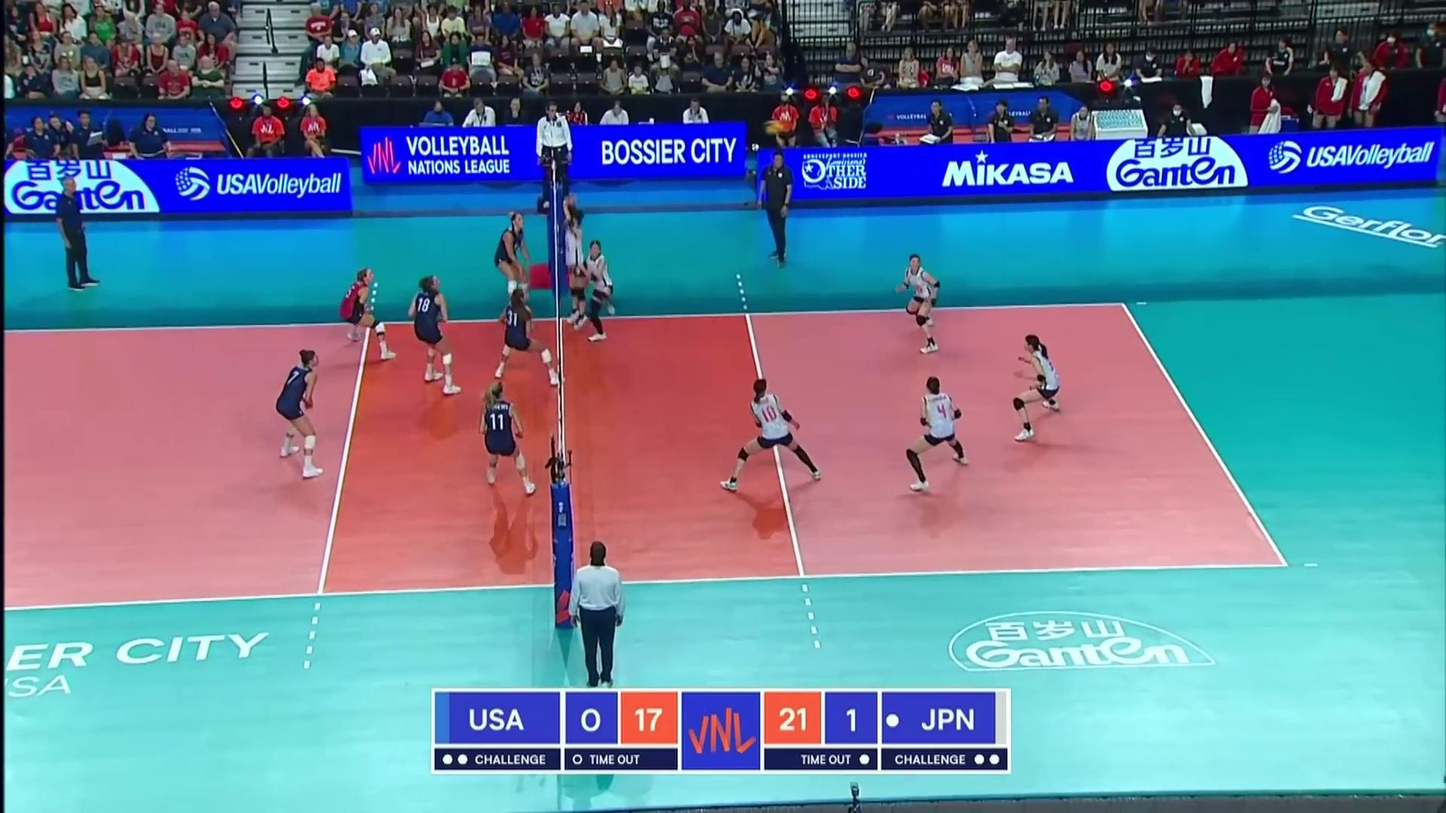player: (725, 380, 822, 488), (907, 379, 973, 493), (490, 289, 565, 384), (408, 275, 463, 395), (479, 383, 537, 496), (275, 349, 325, 477), (1006, 333, 1063, 443), (338, 269, 393, 359), (901, 255, 948, 356), (492, 212, 529, 323), (582, 238, 617, 344), (562, 202, 587, 328)
refree: (570, 543, 625, 684), (534, 103, 573, 209)
